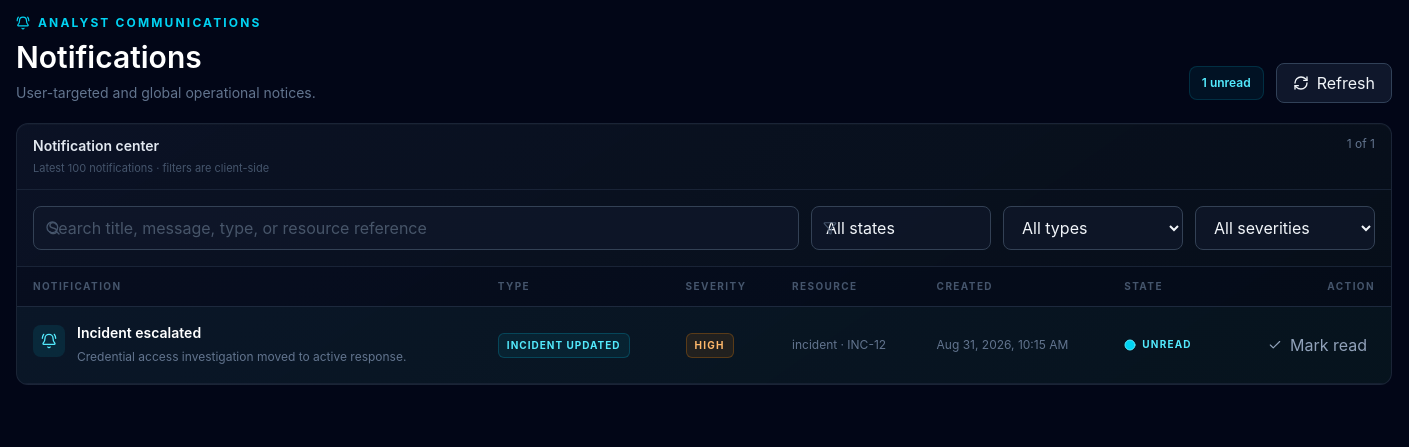
Test: NotificationsPage › shows a failed mark-as-read mutation
Click the button "Mark read": point(1318, 344) [1260,328,1375,360]
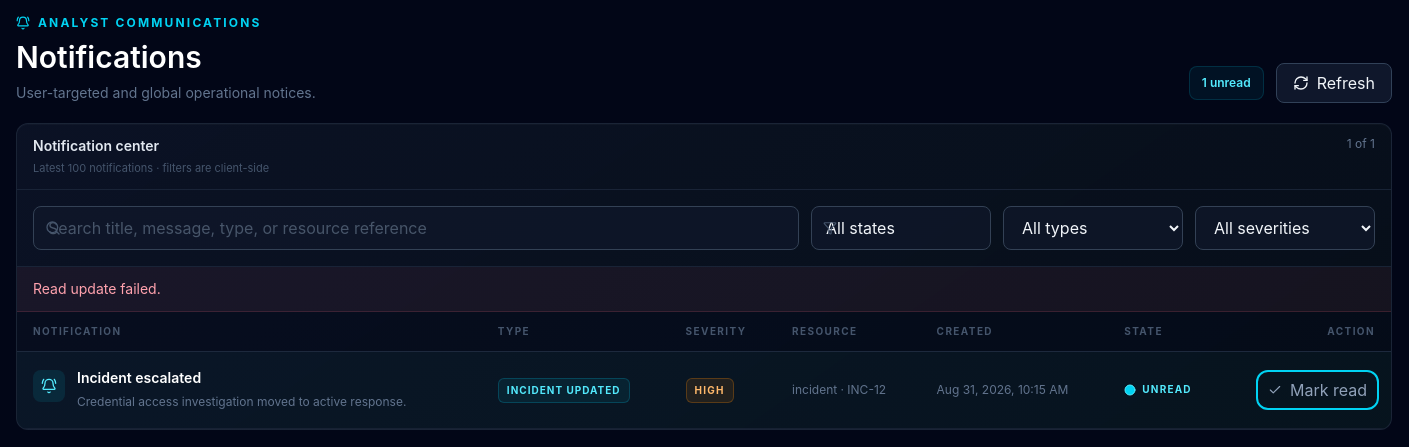
Expected: the message reads "Read update failed.", [33,280,161,296]
